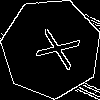X: (26, 23, 81, 71)
